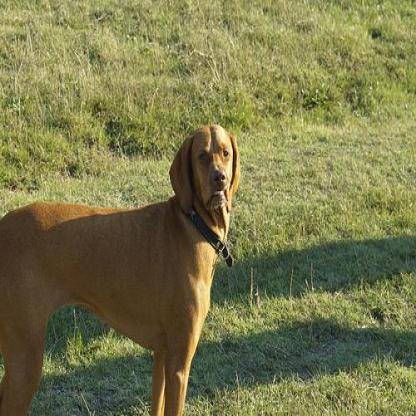vizsla: (0, 123, 241, 413)
